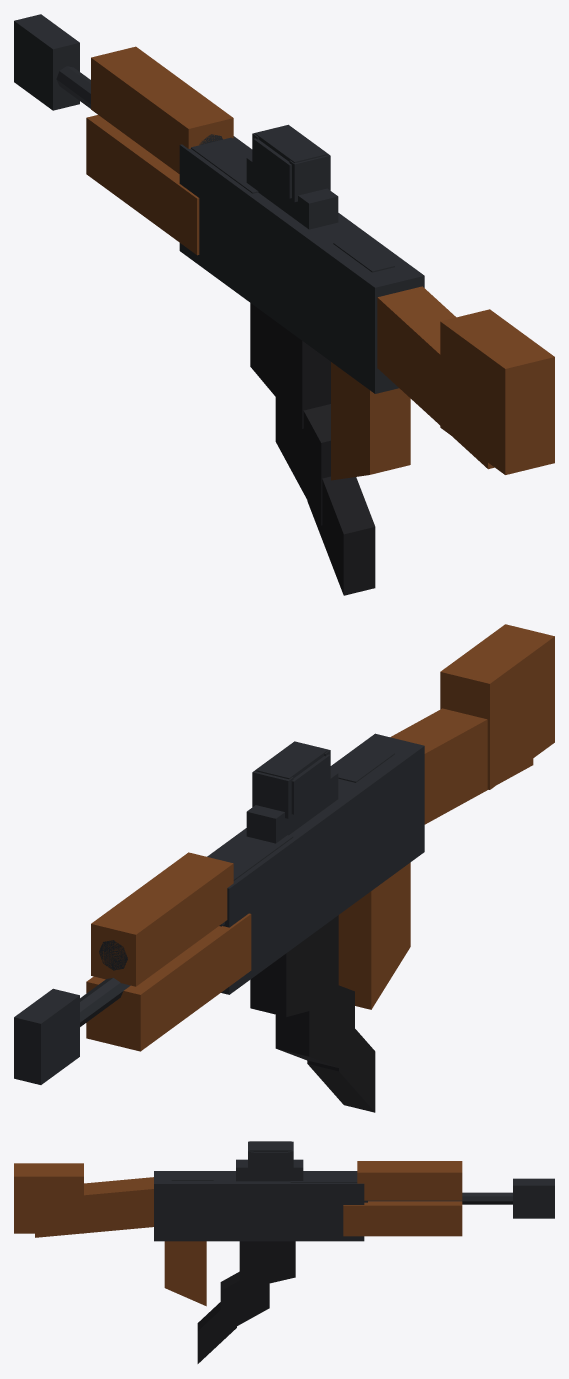
Rendered from arma_ak47.glb.
The picture shows the model from 3 angles, top to bottom: view 1: azimuth 30°, elevation 25°; view 2: azimuth 150°, elevation 25°; view 3: azimuth 270°, elevation 25°; orthographic projection. The views are drawn at different scales.
Parts seen in each view (by area): view 1: AK47; view 2: AK47; view 3: AK47.
Boxes of the visible parts, left/top/right/bottom form: AK47: left=14, top=14, right=554, bottom=595; AK47: left=14, top=624, right=554, bottom=1112; AK47: left=14, top=1141, right=554, bottom=1363.
Size of the model in its own units: 0.048 by 0.3378 by 0.772.
